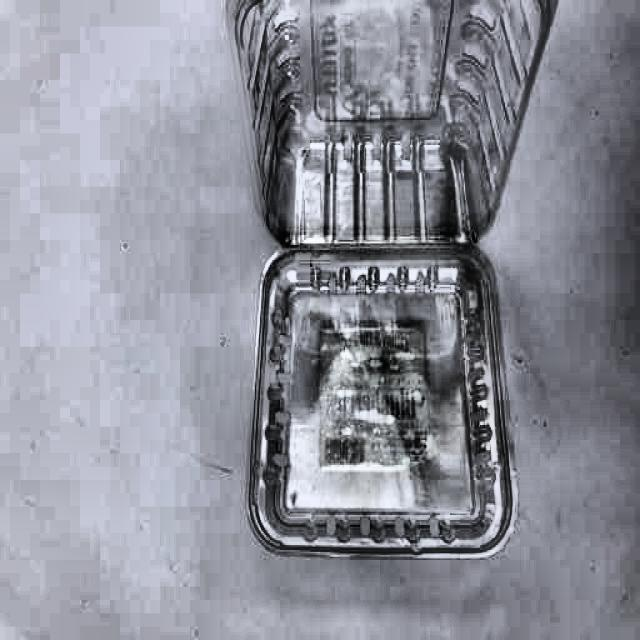plastic: (223, 8, 551, 561)
